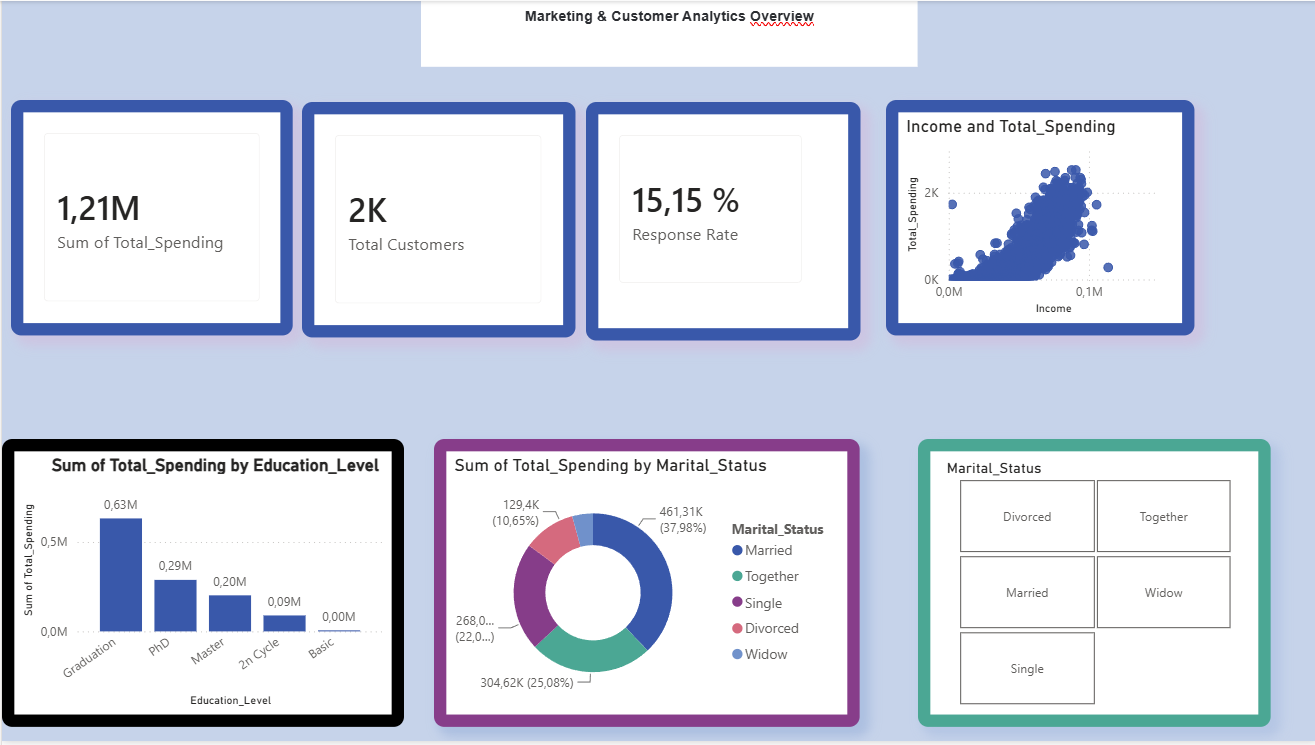

The dashboard page shown, as its layout file describes it:
{"tool":"powerbi","page":{"name":"Page 1","canvas":[1280,720],"ordinal":0},"visuals":[{"type":"cardVisual","fields":{"Data":["Sum(food_final.Total_Spending)"]},"box":[8.8,96.3,274.3,228.6],"z":0},{"type":"cardVisual","fields":{"Data":["food_final.Total Customers"]},"box":[291.8,98.2,265.5,228.6],"z":1},{"type":"cardVisual","fields":{"Data":["food_final.Response Rate"]},"box":[568,98.2,266.5,232.5],"z":2},{"type":"clusteredColumnChart","fields":{"Category":["food_final.Education_Level"],"Y":["Sum(food_final.Total_Spending)"]},"box":[0,426,391,280.1],"z":3},{"type":"donutChart","fields":{"Category":["food_final.Marital_Status"],"Y":["Sum(food_final.Total_Spending)"]},"box":[420.2,426,414.3,280.1],"z":4},{"type":"slicer","fields":{"Values":["food_final.Marital_Status"]},"box":[890.9,426,343.3,280.1],"z":5},{"type":"scatterChart","fields":{"X":["food_final.Income"],"Y":["food_final.Total_Spending"]},"box":[859.8,96.3,299.6,228.6],"z":6},{"type":"textbox","box":[407.5,0,483.4,64.2],"z":7}]}

Visuals, with their boxes in screenshot pixels (x1, y1, x2, y2), scaled from the page's 1280x720 canvas onto the 1315x745 screenshot:
cardVisual - Sum(food_final.Total_Spending): locate(9, 100, 291, 336)
cardVisual - food_final.Total Customers: locate(300, 102, 573, 338)
cardVisual - food_final.Response Rate: locate(584, 102, 857, 342)
clusteredColumnChart - food_final.Education_Level x Sum(food_final.Total_Spending): locate(0, 441, 402, 731)
donutChart - food_final.Marital_Status x Sum(food_final.Total_Spending): locate(432, 441, 857, 731)
slicer - food_final.Marital_Status: locate(915, 441, 1268, 731)
scatterChart - food_final.Income x food_final.Total_Spending: locate(883, 100, 1191, 336)
textbox: locate(419, 0, 915, 66)
